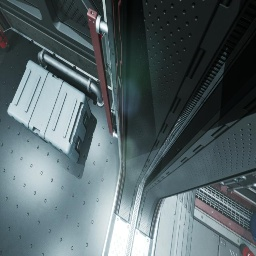FireExtinguisher ]: (0, 28, 11, 52), (240, 244, 255, 256)
SafetySwitchPanel ,: (88, 0, 114, 102)
